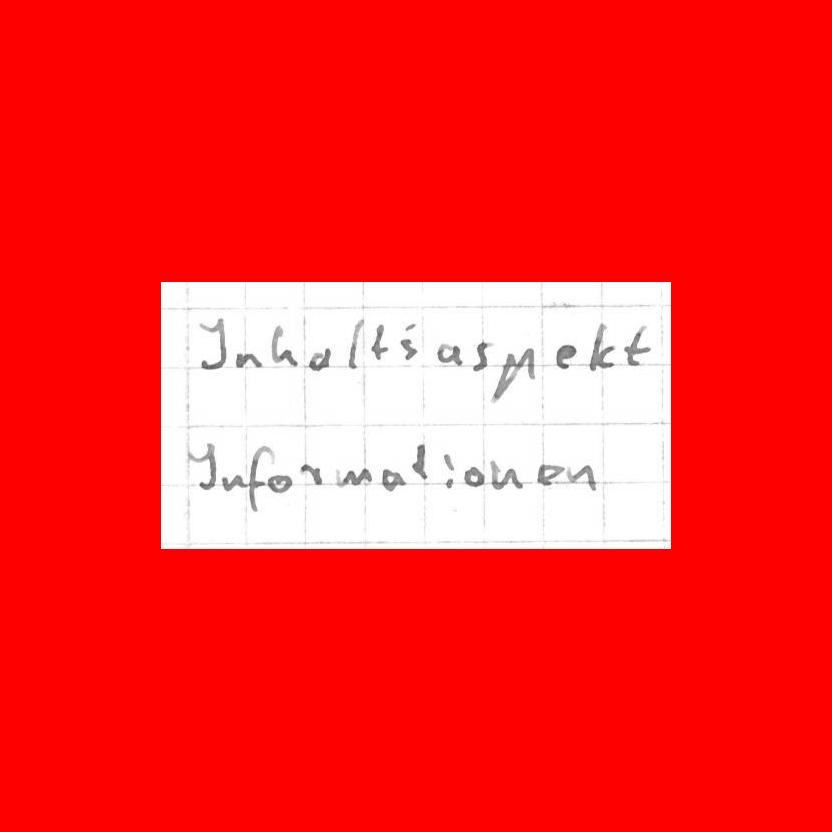Char: (493, 344, 535, 401), (196, 315, 229, 373), (246, 444, 269, 513), (187, 440, 217, 492), (587, 320, 617, 372), (622, 322, 652, 368), (270, 322, 297, 368), (488, 457, 522, 492), (345, 317, 364, 368), (566, 461, 597, 491), (398, 321, 420, 363), (408, 440, 429, 482), (338, 464, 372, 488), (368, 321, 387, 362), (436, 340, 464, 367), (306, 344, 333, 372), (534, 460, 563, 485), (471, 340, 492, 374), (554, 341, 578, 370), (234, 347, 264, 370), (299, 461, 325, 487), (379, 464, 404, 491), (442, 453, 458, 489), (267, 472, 293, 494), (463, 464, 485, 488), (222, 471, 245, 493)
